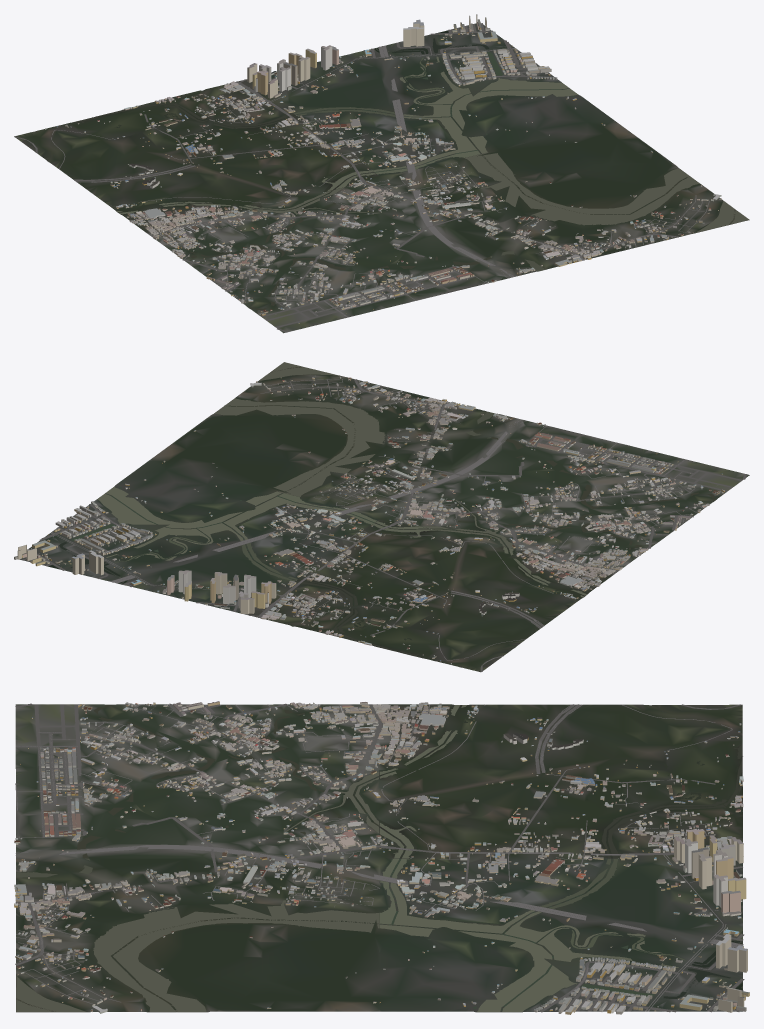
3 views of the same model, one above another, from view 1: azimuth 30°, elevation 25°; view 2: azimuth 150°, elevation 25°; view 3: azimuth 270°, elevation 25° (orthographic). The views are drawn at different scales.
Parts seen in each view (by area): view 1: ground, buildings, water, roads; view 2: ground, buildings, water, roads; view 3: ground, buildings, water, roads.
Boxes of the visible parts, <box> form: ground: <box>14,23,749,333</box>; buildings: <box>45,14,721,323</box>; water: <box>48,30,749,310</box>; roads: <box>14,23,709,332</box>; ground: <box>19,367,749,672</box>; buildings: <box>14,375,724,664</box>; water: <box>48,362,715,660</box>; roads: <box>21,379,747,671</box>; ground: <box>15,704,742,1012</box>; buildings: <box>14,701,749,1014</box>; water: <box>16,704,742,1012</box>; roads: <box>15,703,744,1012</box>.
Bounding box in the file's own units: 2837 × 126 × 2836.
